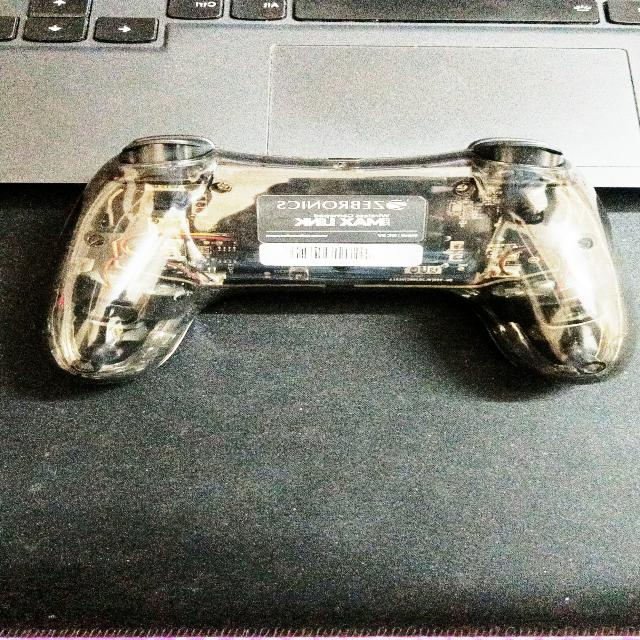gamepad: (43, 133, 629, 385)
